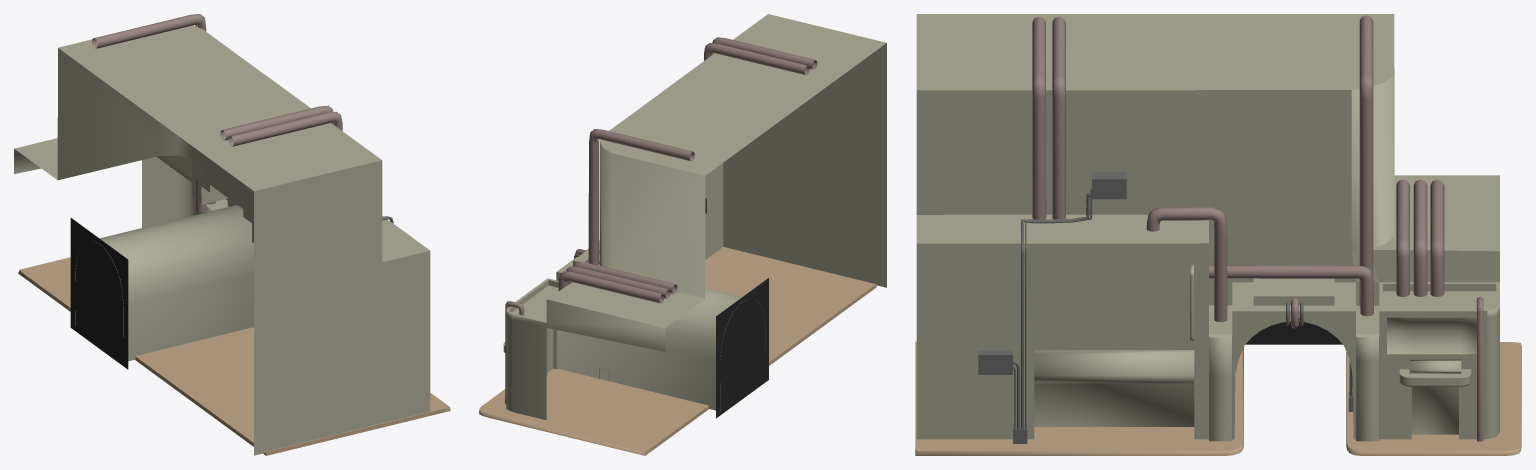
File: tunnel-building.fbx
3 views of the same model, side by side, from view 1: azimuth 30°, elevation 25°; view 2: azimuth 150°, elevation 25°; view 3: azimuth 270°, elevation 25° (orthographic). The views are drawn at different scales.
Visible parts, largest first — view 1: Cube.003, Cube, Plane.001, Cube.001, NurbsCurve.011, NurbsCurve.009, NurbsCurve.008; view 2: Cube.003, Cube.001, Cube, Plane.001, NurbsCurve.011, NurbsCurve.002, NurbsCurve.008, NurbsCurve.009, NurbsCurve, NurbsCurve.001; view 3: Cube.003, Cube, Cube.001, NurbsCurve.011, NurbsCurve.009, NurbsCurve.008, NurbsCurve.003, NurbsCurve.004, NurbsCurve.002, NurbsCurve.001, NurbsCurve, Plane.001 (+5 smaller).
Boxes of the visible parts, box(x1,y1,x2,y2) form: Cube.003: box(14, 25, 430, 455); Cube: box(135, 327, 450, 455); Plane.001: box(70, 218, 128, 369); Cube.001: box(18, 257, 70, 311); NurbsCurve.011: box(92, 14, 206, 212); NurbsCurve.009: box(228, 111, 342, 146); NurbsCurve.008: box(220, 105, 333, 140); Cube.003: box(503, 14, 886, 420); Cube.001: box(479, 368, 708, 455); Cube: box(705, 247, 876, 365); Plane.001: box(716, 278, 768, 418); NurbsCurve.011: box(588, 129, 694, 265); NurbsCurve.002: box(558, 271, 664, 303); NurbsCurve.008: box(704, 43, 809, 75); NurbsCurve.009: box(712, 37, 817, 69); NurbsCurve: box(573, 261, 677, 293); NurbsCurve.001: box(566, 266, 670, 298); Cube.003: box(916, 14, 1499, 441); Cube: box(915, 341, 1243, 455); Cube.001: box(1346, 342, 1521, 455); NurbsCurve.011: box(1359, 15, 1373, 307); NurbsCurve.009: box(1032, 16, 1046, 219); NurbsCurve.008: box(1052, 16, 1065, 219); NurbsCurve.003: box(1209, 265, 1373, 316); NurbsCurve.004: box(1146, 207, 1227, 321); NurbsCurve.002: box(1430, 179, 1444, 296); NurbsCurve.001: box(1413, 179, 1427, 296); NurbsCurve: box(1396, 179, 1409, 296); Plane.001: box(1245, 321, 1342, 344).
Bounding box in the file's own units: 800 × 1099 × 1754.
